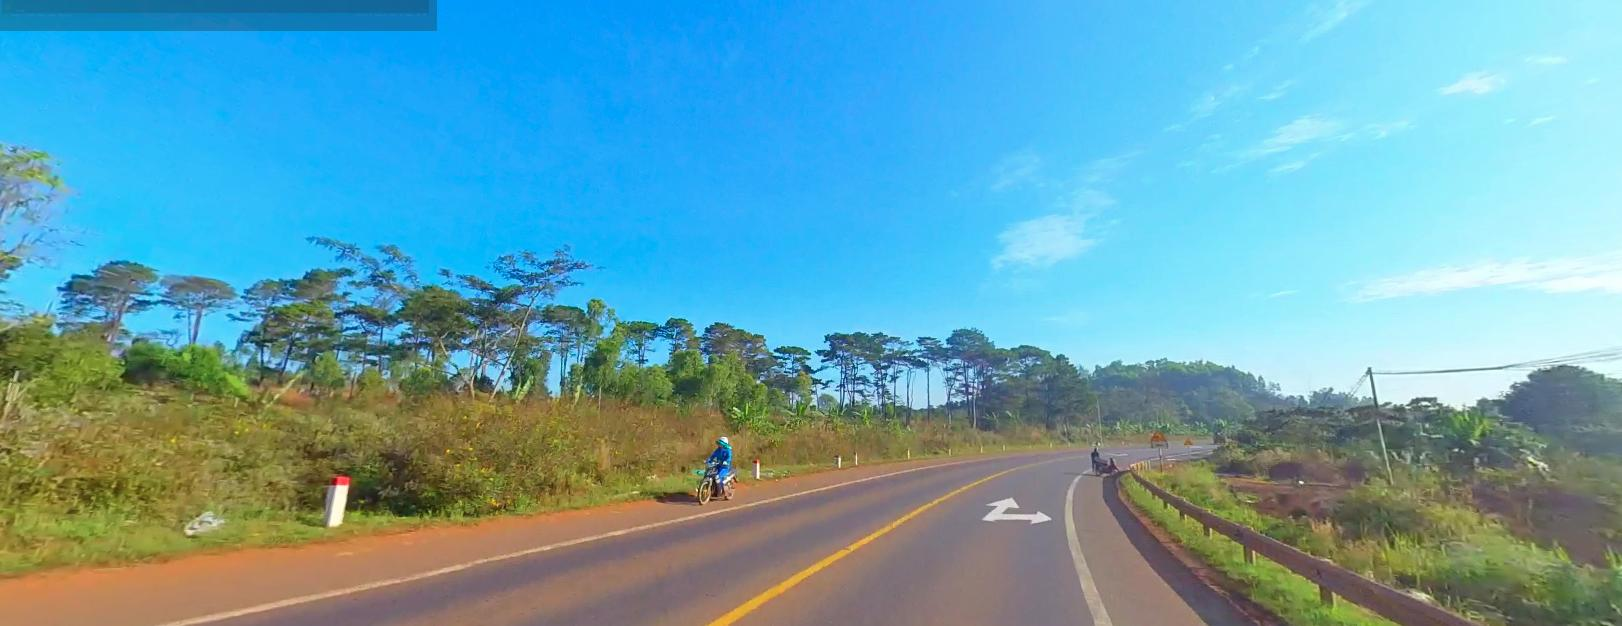Nguy hiem: (1151, 429, 1164, 440), (1184, 437, 1193, 443)
